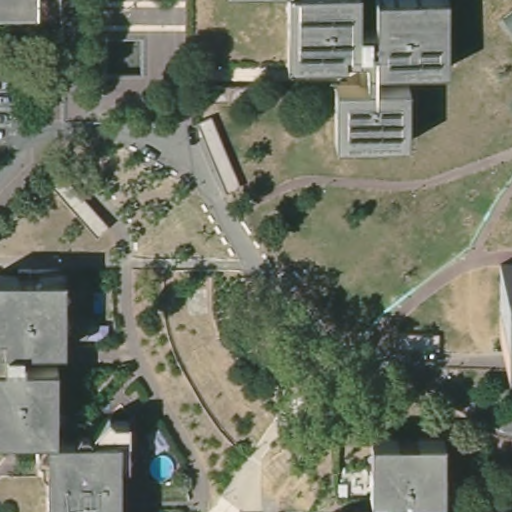pool: (147, 452, 178, 483)
